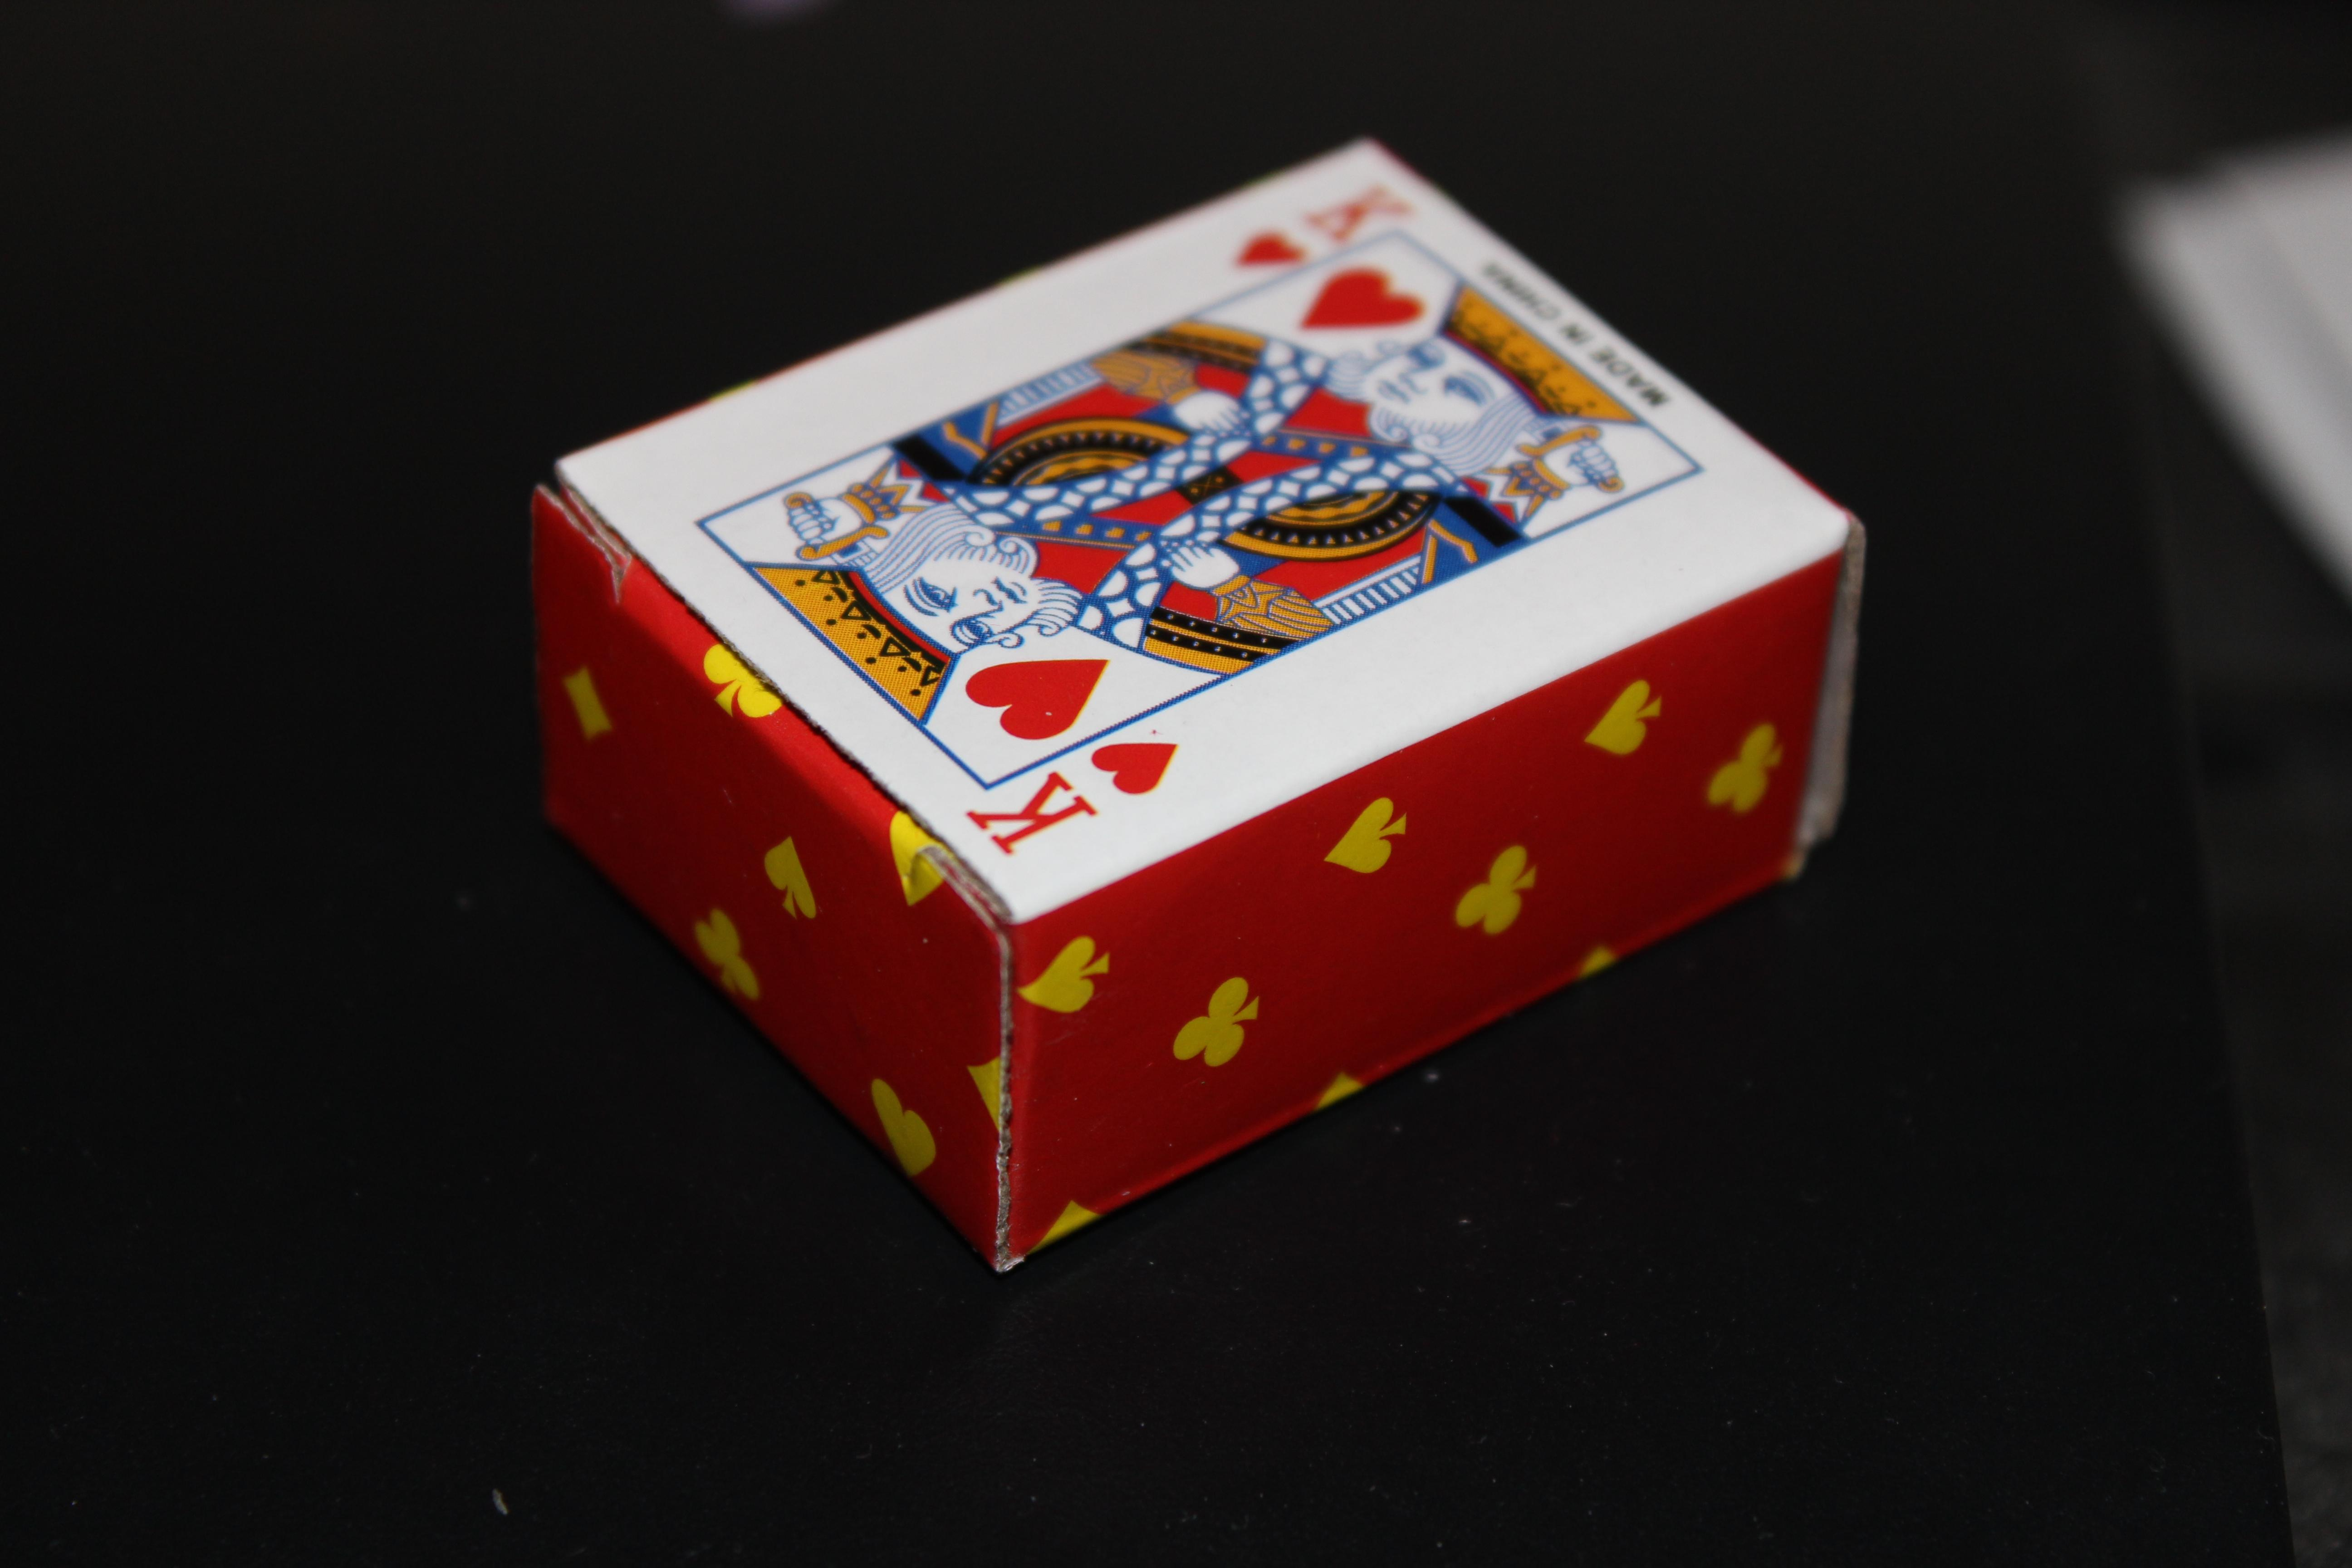miniCards: (464, 117, 1918, 985)
